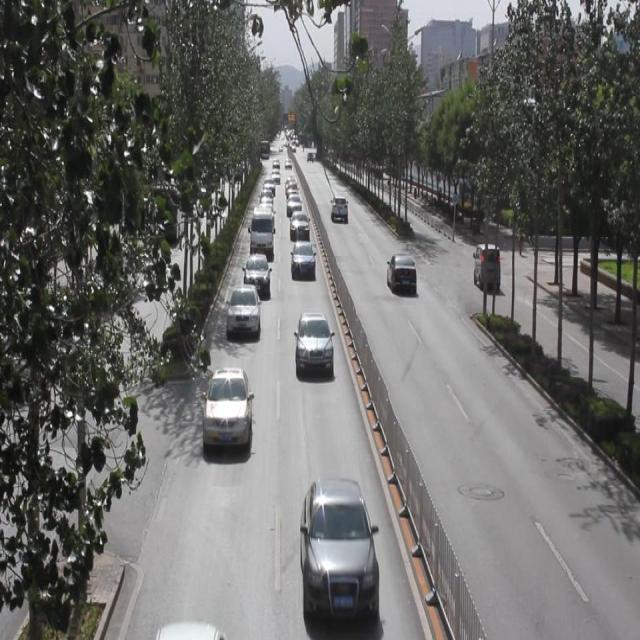car: (300, 475, 376, 613), (205, 364, 250, 450), (296, 310, 331, 370), (228, 282, 258, 337), (386, 251, 415, 295), (243, 251, 268, 297), (289, 237, 315, 279), (290, 207, 309, 241)
truck: (471, 240, 498, 287), (250, 203, 274, 254)
